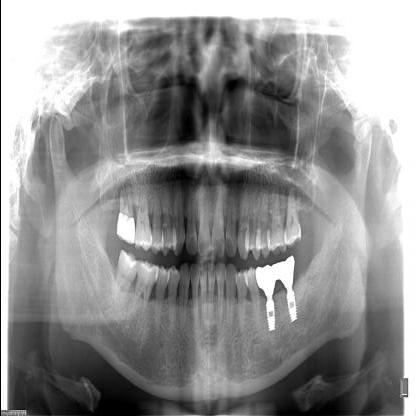Bicon: (263, 294, 278, 338), (285, 288, 299, 328)
